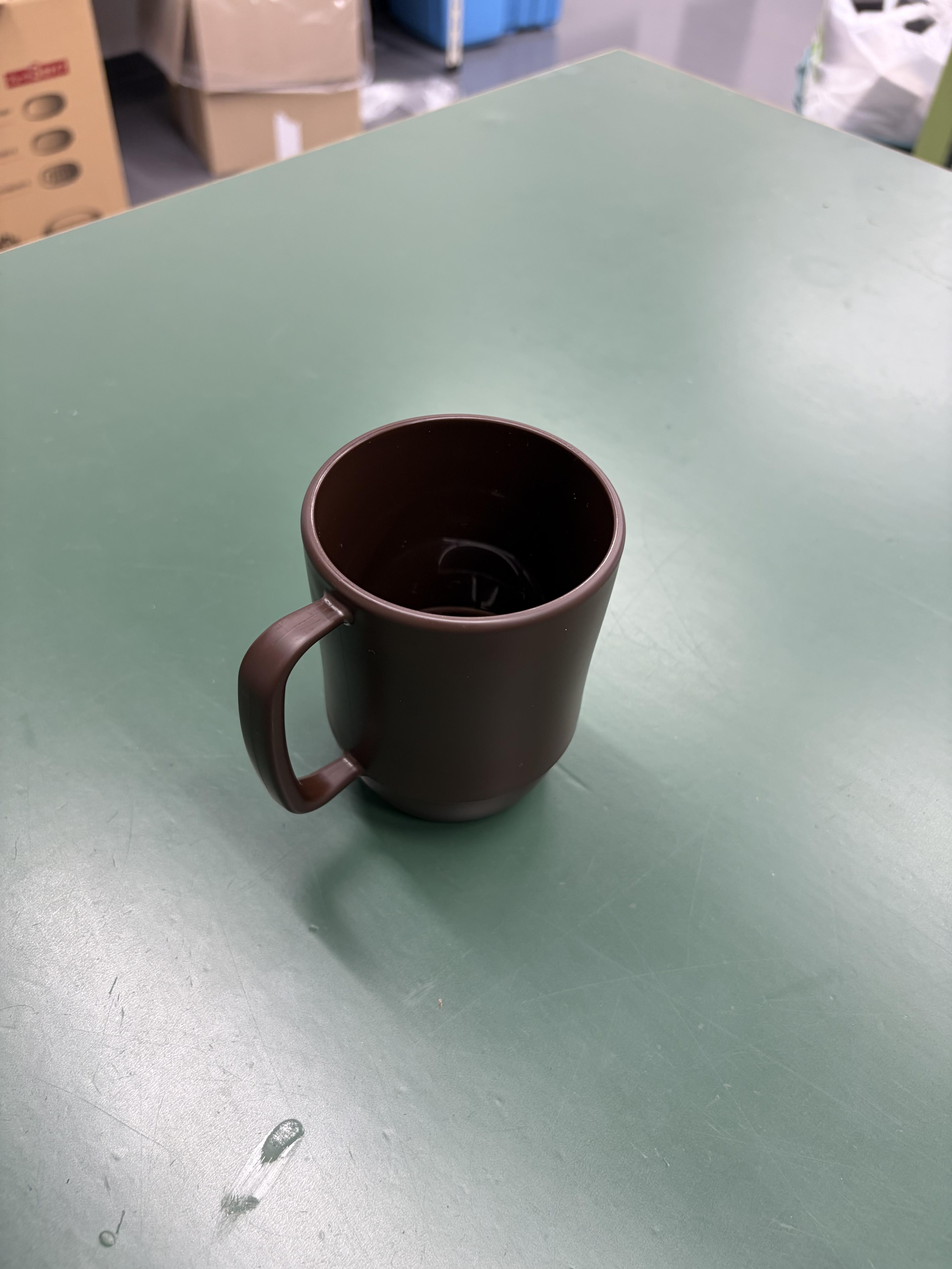mug-real100-3d100: (238, 415, 625, 821)
